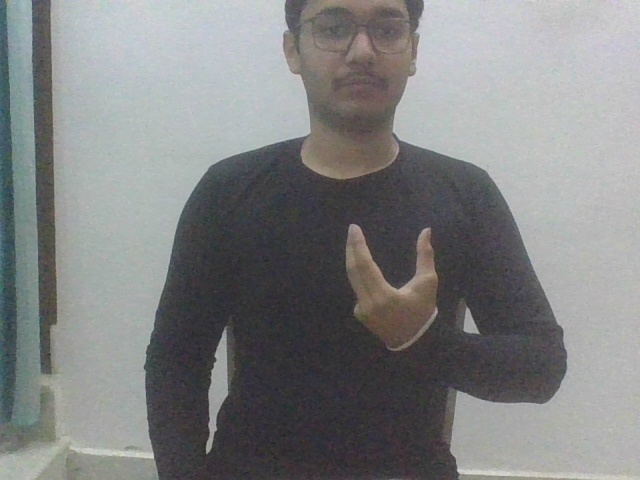U: (345, 218, 441, 356)
